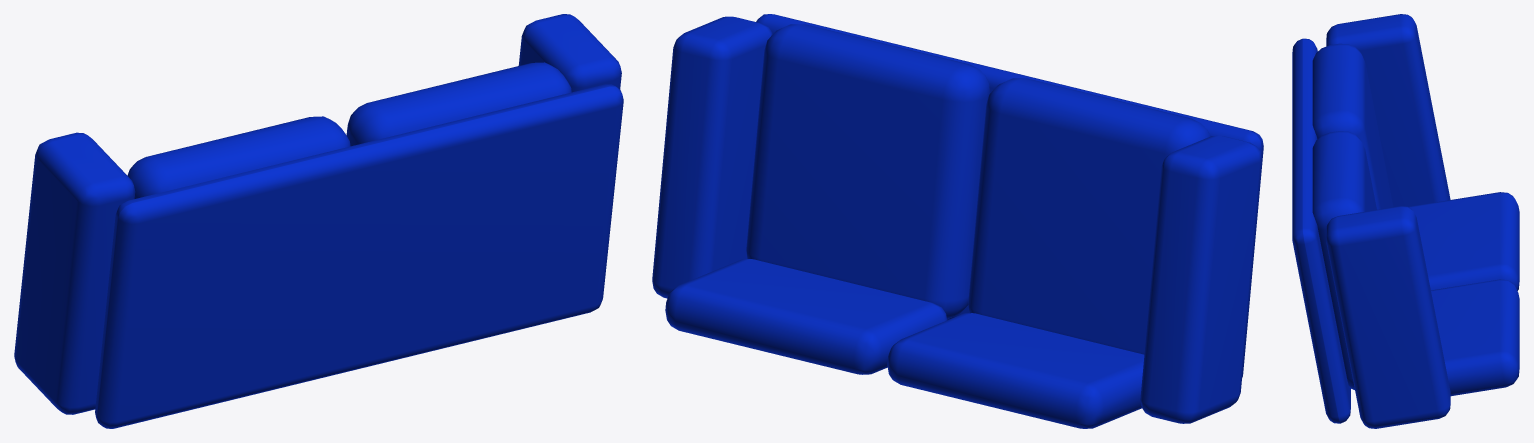
Rendered from EM_Seat.obj.
The picture shows the model from 3 angles, left to right: view 1: azimuth 30°, elevation 25°; view 2: azimuth 150°, elevation 25°; view 3: azimuth 270°, elevation 25°; orthographic projection. The views are drawn at different scales.
Parts seen in each view (by area): view 1: EM_Seat; view 2: EM_Seat; view 3: EM_Seat.
Part boxes in pixels (x1,y1,x2,y2): EM_Seat: (14, 14, 623, 428); EM_Seat: (652, 14, 1263, 428); EM_Seat: (1292, 14, 1519, 428).
Bounding box in the file's own units: 4.42 × 2.04 × 1.98.
